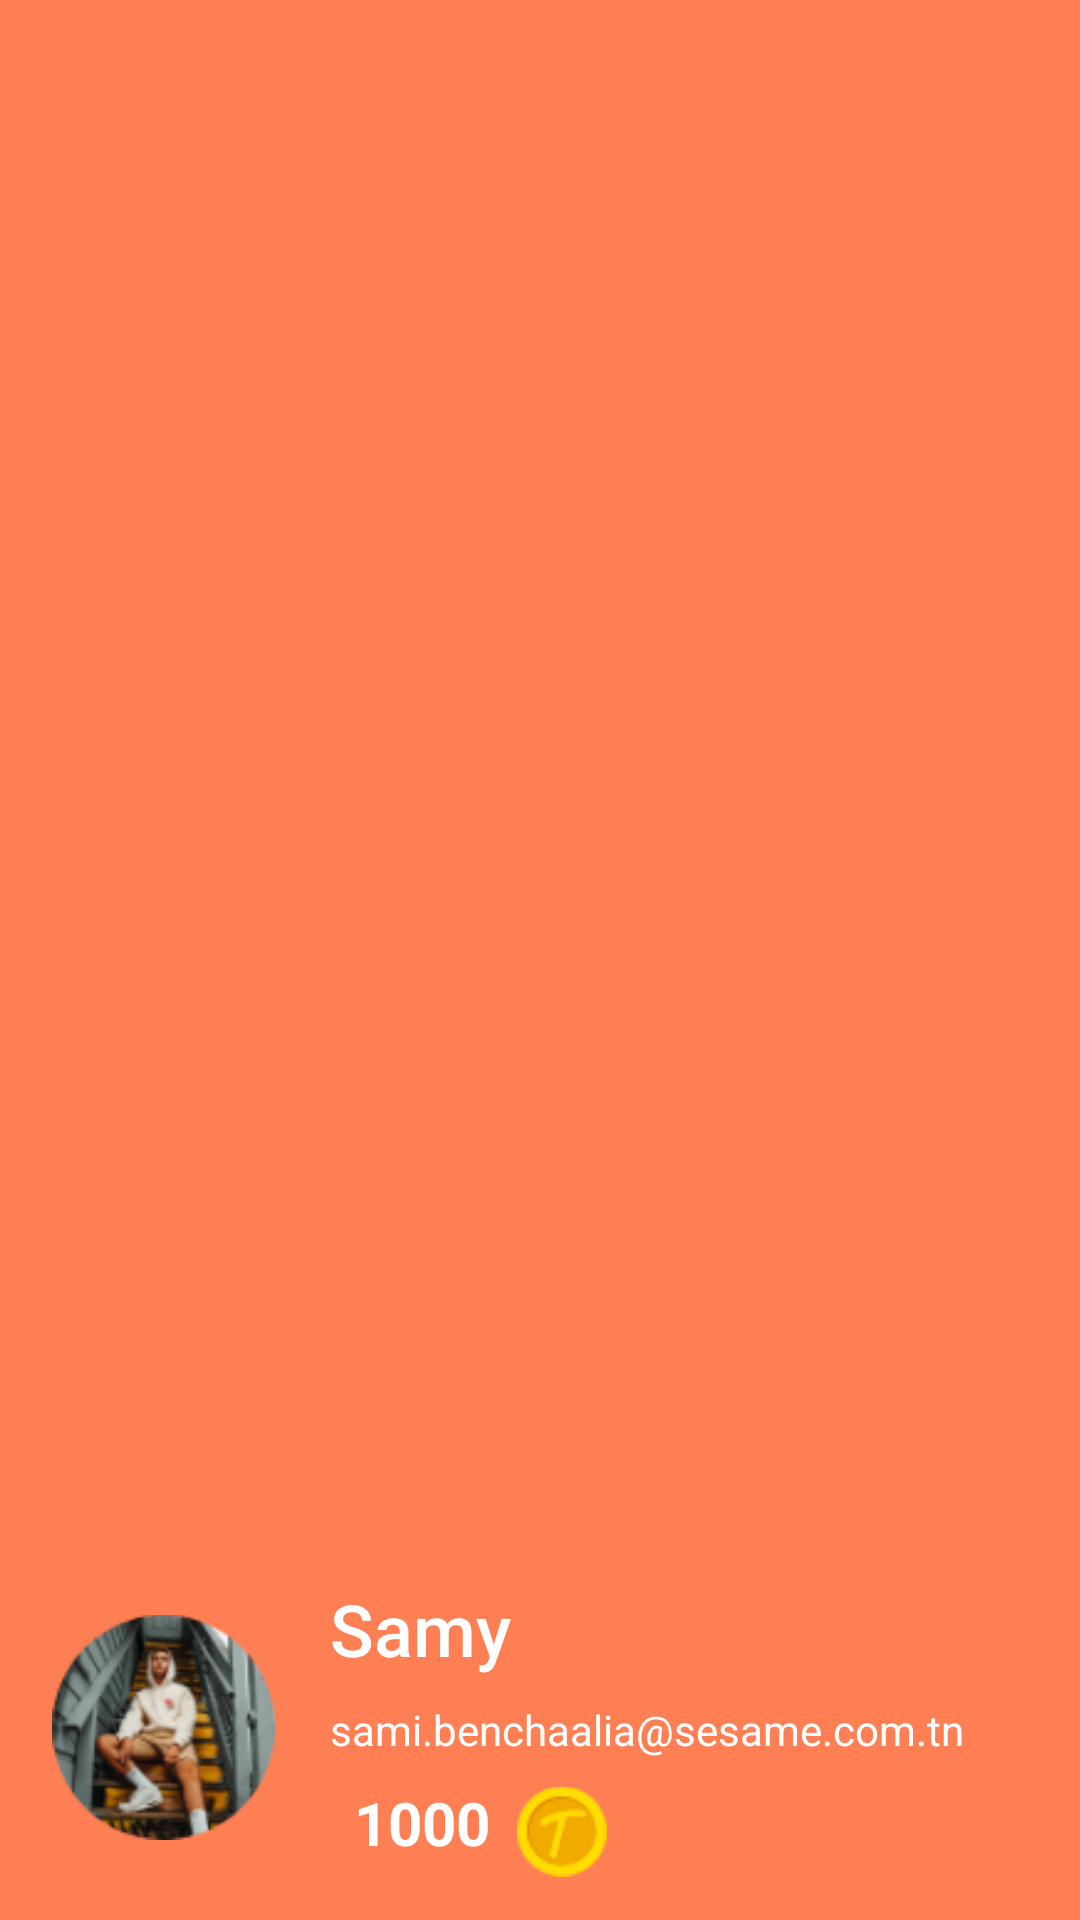

Where to tap for icons on this 1080px×1920px app screen, as [x,y]:
coin: [562,1832]
profilee: [163,1727]
